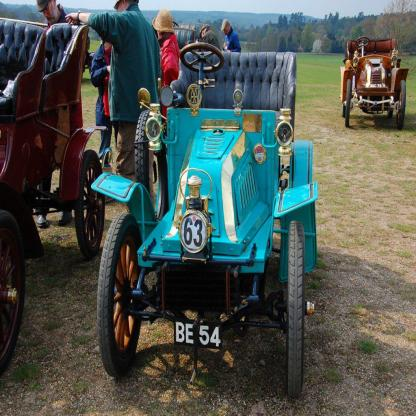Car: (92, 44, 320, 400), (1, 20, 106, 381), (341, 36, 411, 131), (174, 23, 210, 54)
